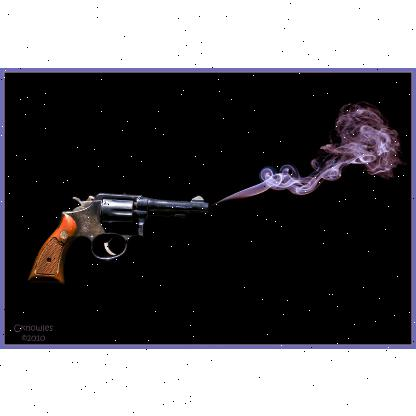gun: (29, 190, 211, 286)
